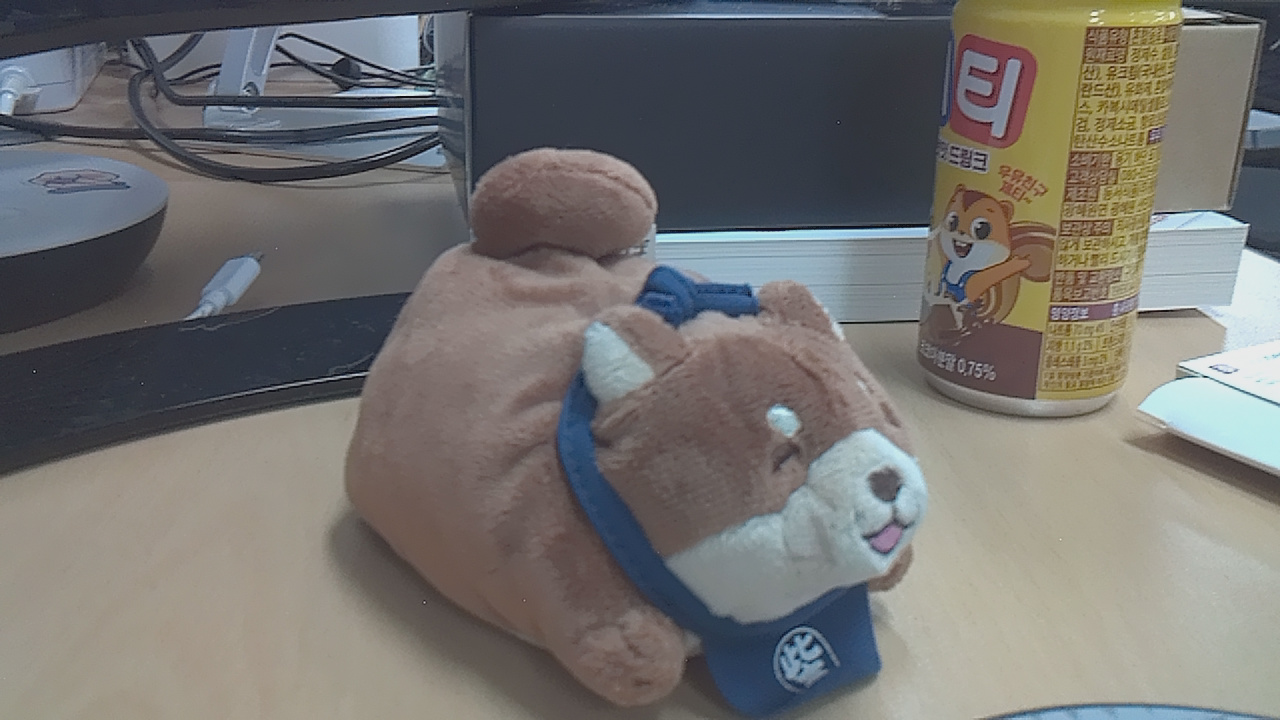cuteDog: (225, 153, 936, 703)
